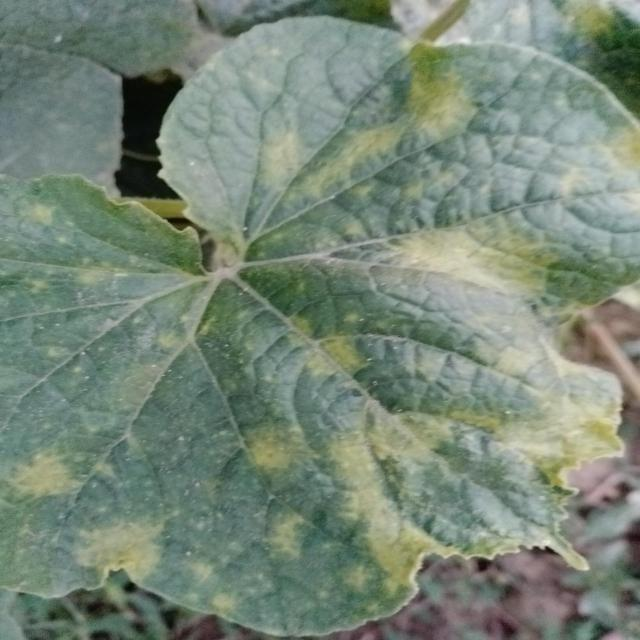cucumber_downy: (12, 53, 624, 629)
